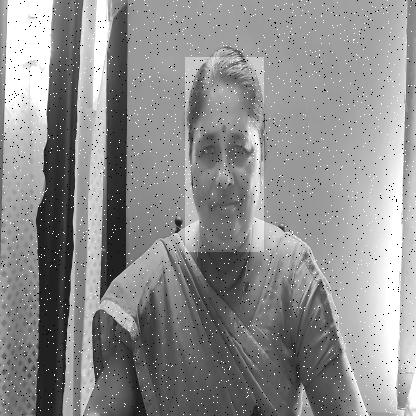Normal: (185, 57, 264, 252)
